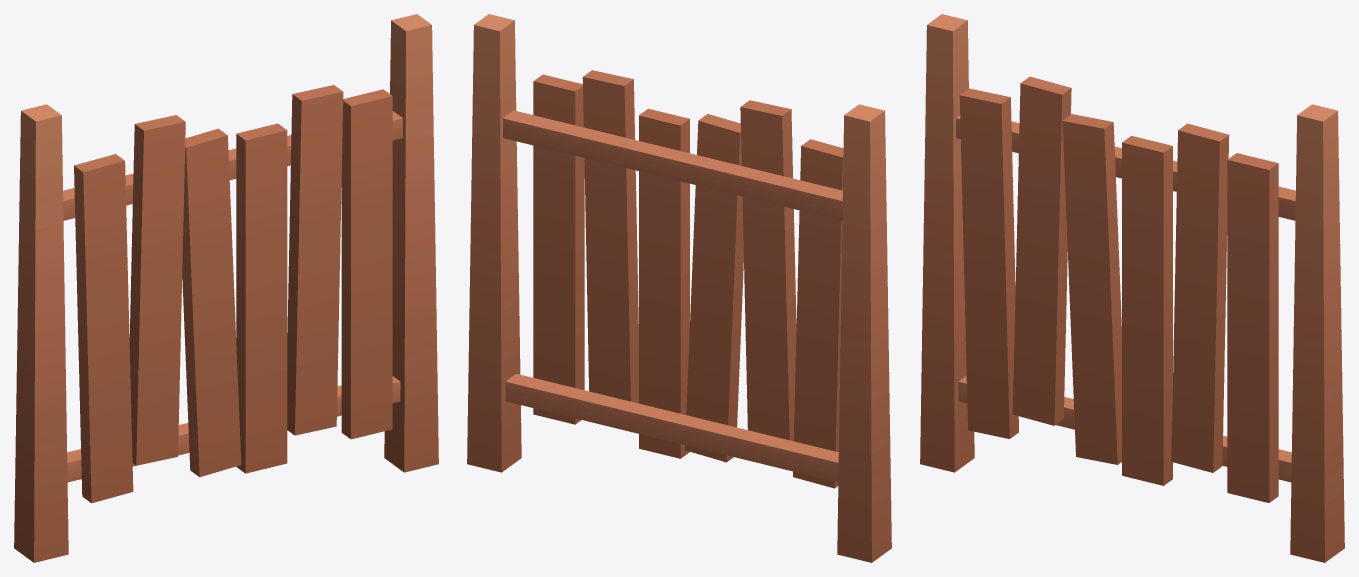
The model's file is kenney-wood-fence-fortified.glb.
3 views of the same model, side by side, from view 1: azimuth 30°, elevation 25°; view 2: azimuth 150°, elevation 25°; view 3: azimuth 330°, elevation 25° (orthographic).
Visible parts, largest first — view 1: fence-fortified; view 2: fence-fortified; view 3: fence-fortified.
Boxes of the visible parts, x1=… form: fence-fortified: x1=14, y1=14, x2=438, y2=562; fence-fortified: x1=467, y1=14, x2=891, y2=562; fence-fortified: x1=920, y1=14, x2=1344, y2=562.
Size of the model in its own units: 0.5 by 0.5175 by 0.053.
1 material, 1 textured.
